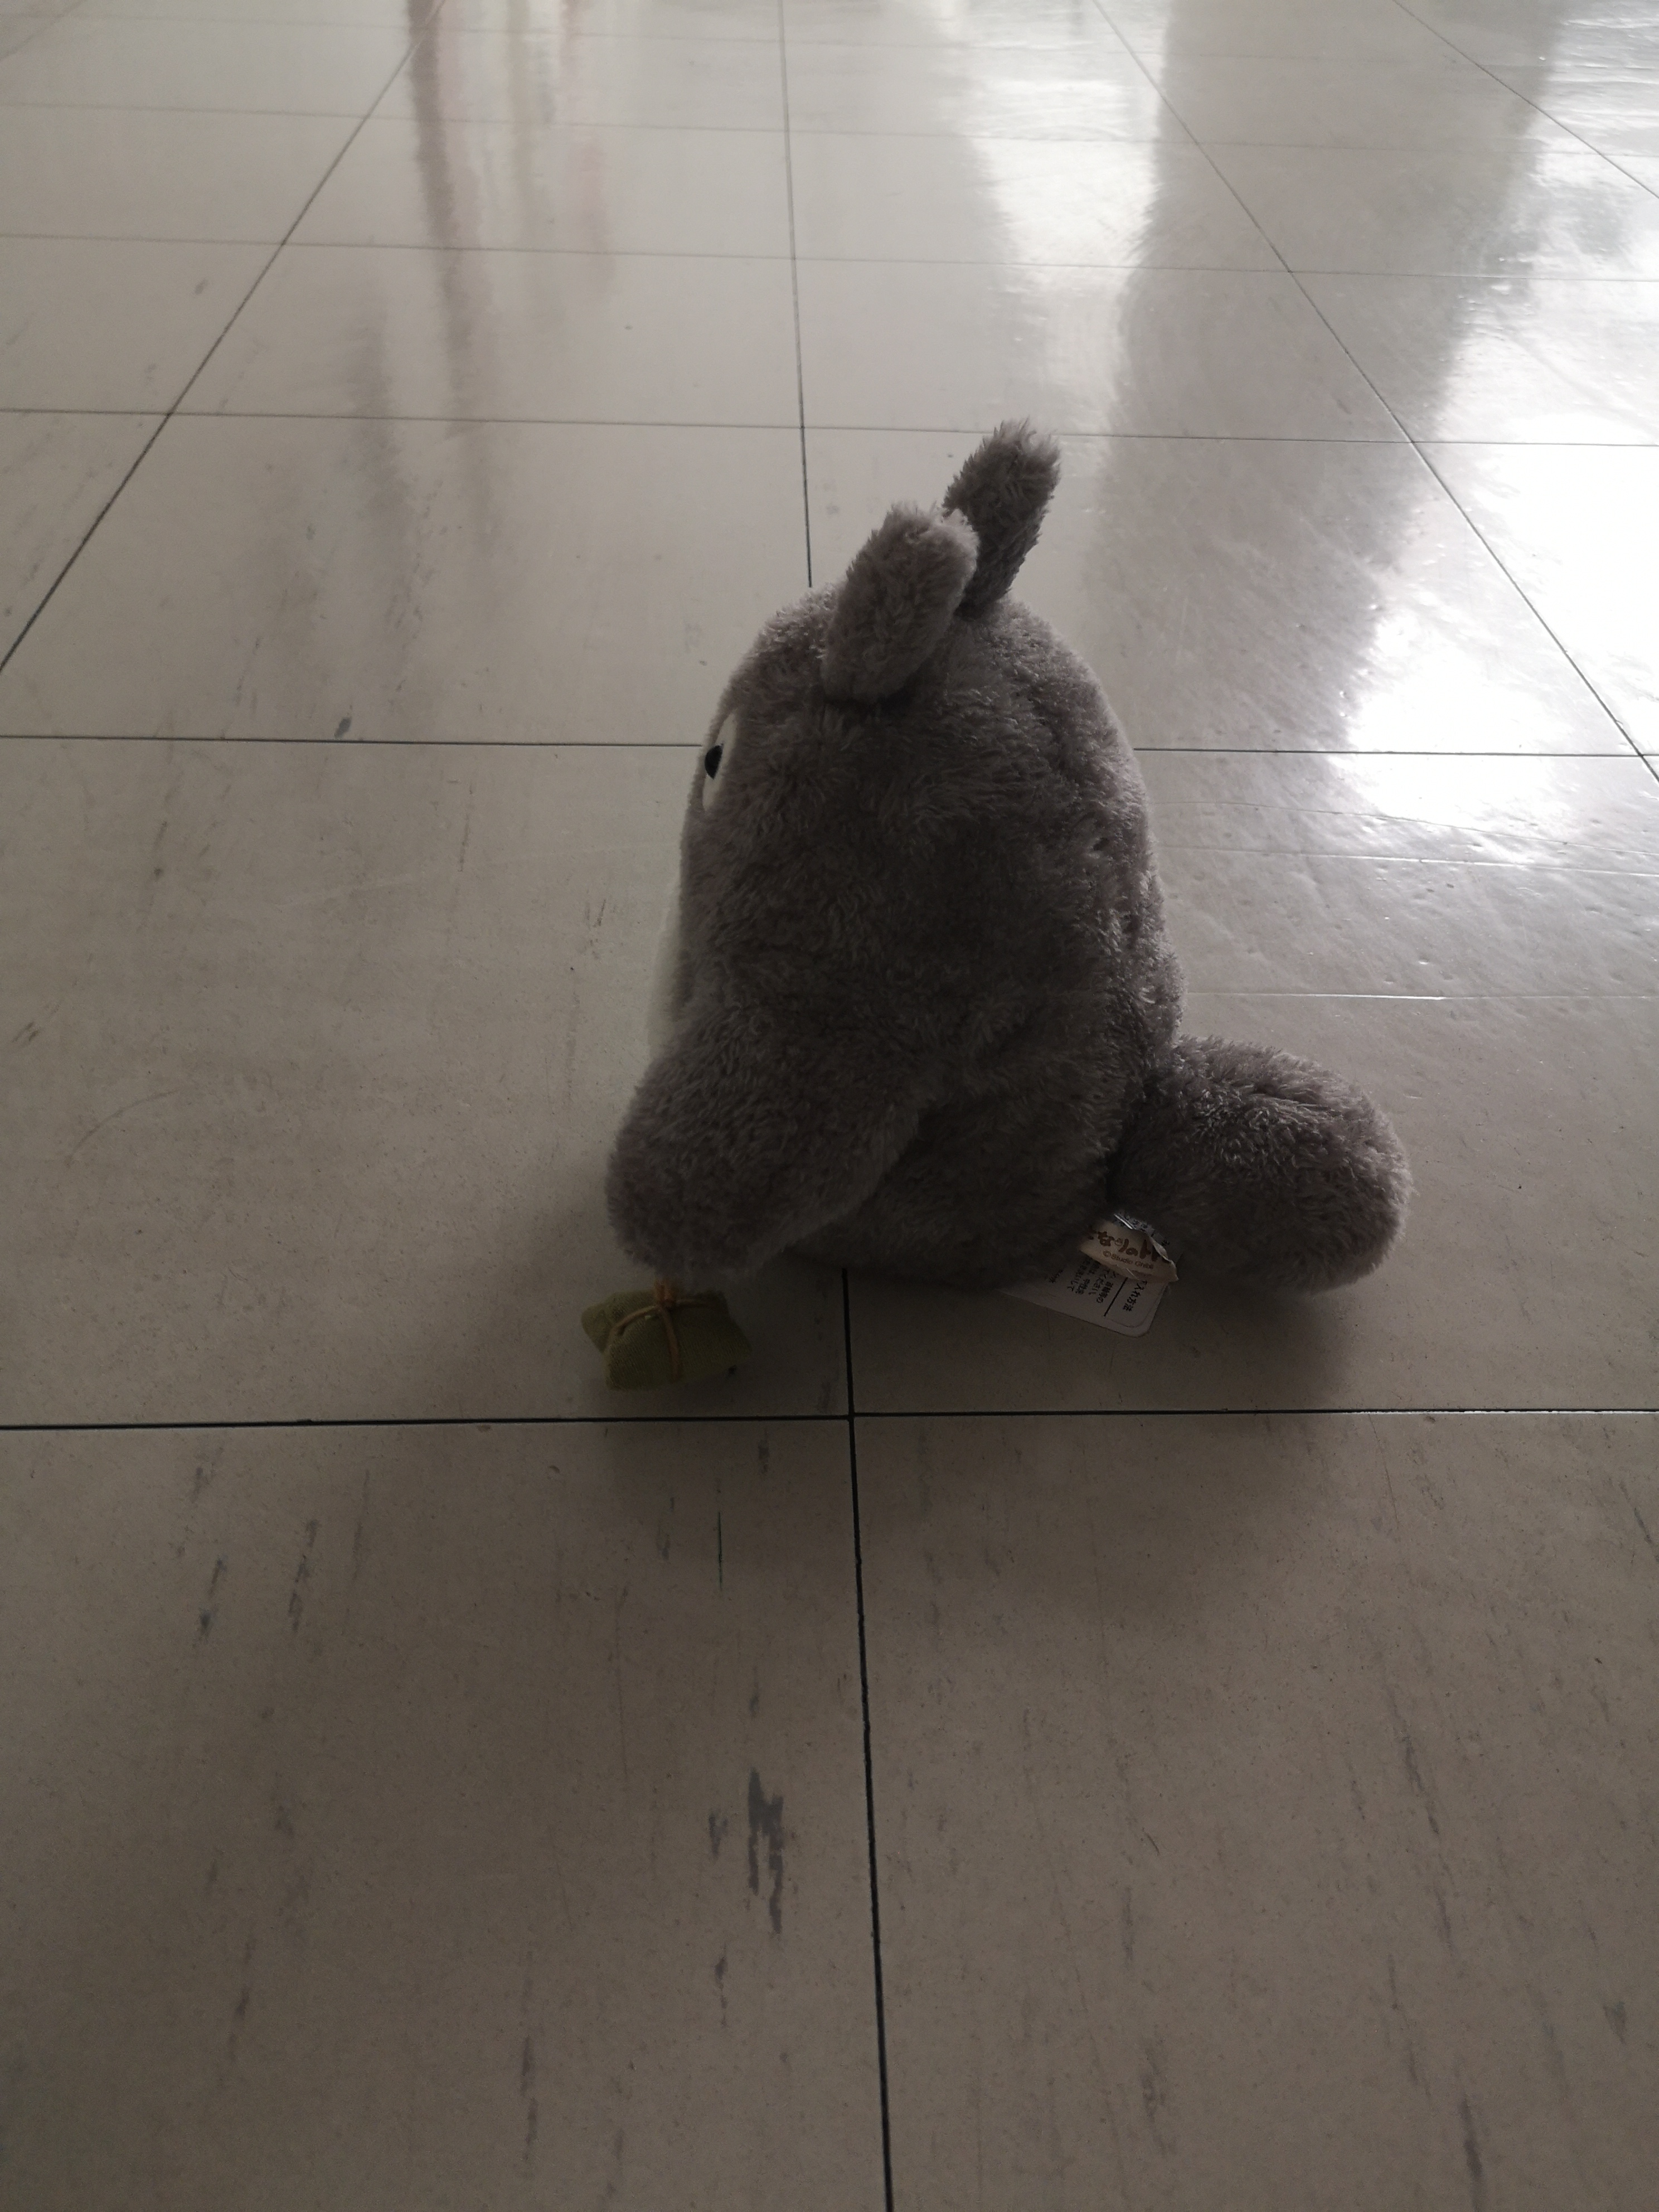totoro: (570, 402, 1431, 1433)
